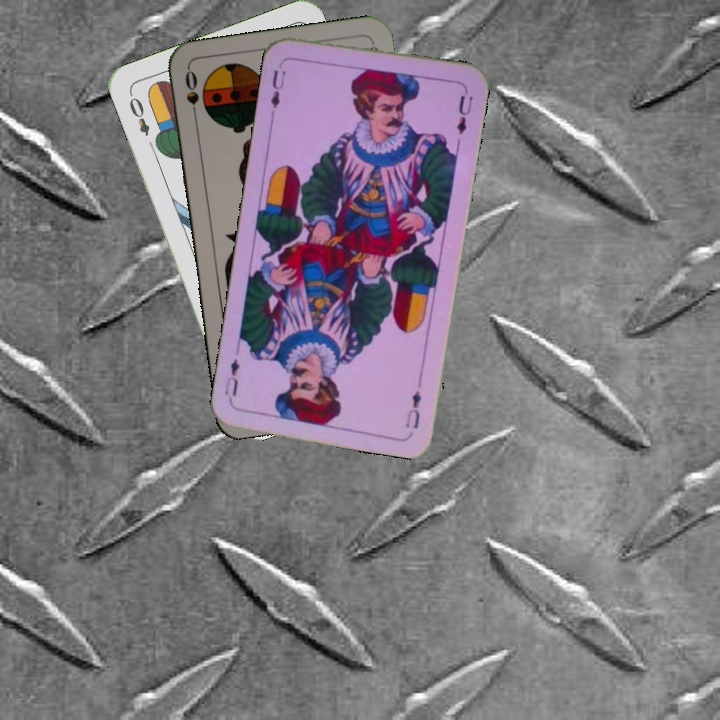EO: (125, 89, 153, 139)
EU: (266, 59, 288, 111), (402, 386, 425, 432)
SO: (181, 66, 201, 125)
